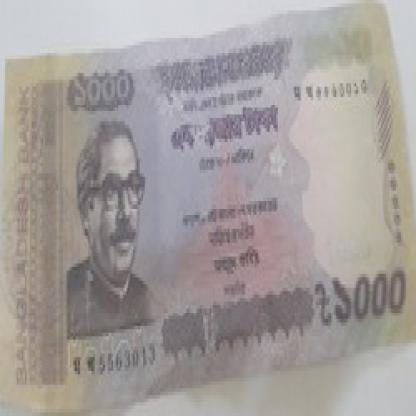One Thousand taka: (310, 267, 406, 326), (70, 70, 135, 114)
